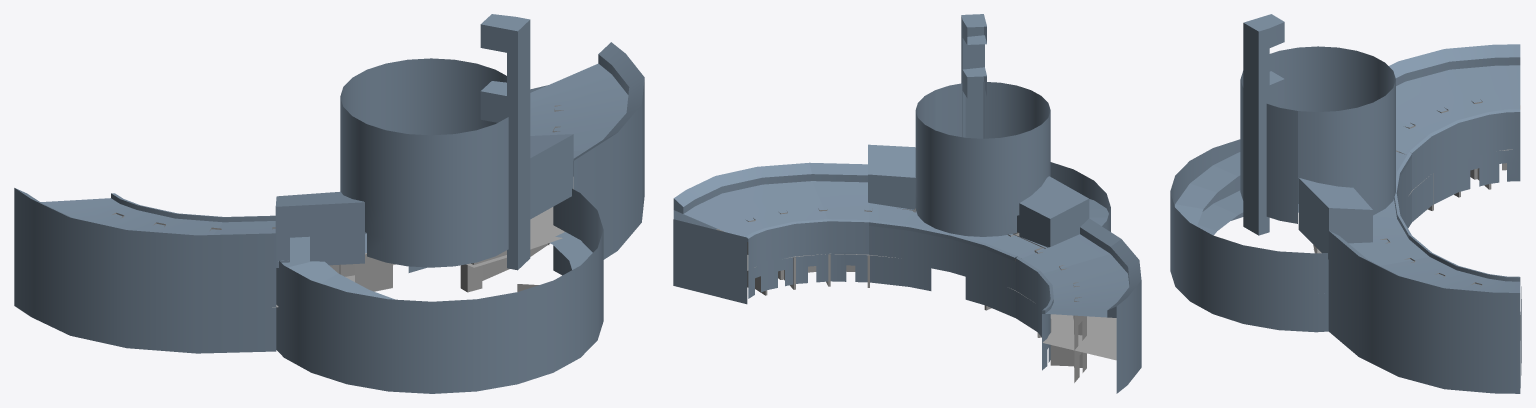
The model's file is CitadelOfDoubt.fbx.
The picture shows the model from 3 angles, left to right: view 1: azimuth 30°, elevation 25°; view 2: azimuth 150°, elevation 25°; view 3: azimuth 270°, elevation 25°; orthographic projection. The views are drawn at different scales.
Parts seen in each view (by area): view 1: polySurface104, pCylinder13, polySurface121, polySurface113, polySurface101, polySurface82, polySurface81, StairsA1, polySurface118, polySurface117, pCylinder30, PillarB; view 2: polySurface121, polySurface113, polySurface104, polySurface103, polySurface70, polySurface82, polySurface98, polySurface81, polySurface101, polySurface114, polySurface117, pCylinder13 (+2 smaller); view 3: polySurface113, polySurface121, pCylinder13, polySurface104, polySurface101, polySurface81, polySurface102, StairsA1, polySurface114, StairsA, polySurface103.
Part boxes in pixels (<box>): polySurface104: <box>14,188,276,353</box>; pCylinder13: <box>276,188,603,393</box>; polySurface121: <box>340,58,508,267</box>; polySurface113: <box>530,42,644,259</box>; polySurface101: <box>480,14,530,270</box>; polySurface82: <box>275,191,364,267</box>; polySurface81: <box>530,134,573,219</box>; StairsA1: <box>282,258,394,299</box>; polySurface118: <box>355,250,506,291</box>; polySurface117: <box>272,177,573,307</box>; pCylinder30: <box>550,232,592,269</box>; PillarB: <box>460,264,482,292</box>; polySurface121: <box>915,81,1050,236</box>; polySurface113: <box>673,162,869,269</box>; polySurface104: <box>1015,218,1141,393</box>; polySurface103: <box>869,226,1015,317</box>; polySurface70: <box>673,219,747,304</box>; polySurface82: <box>1017,176,1089,247</box>; polySurface98: <box>748,252,868,298</box>; polySurface81: <box>868,144,915,209</box>; polySurface101: <box>961,14,986,138</box>; polySurface114: <box>869,203,1047,261</box>; polySurface117: <box>747,253,1116,360</box>; pCylinder13: <box>1050,162,1110,231</box>; polySurface113: <box>1328,231,1520,393</box>; polySurface121: <box>1240,46,1395,223</box>; pCylinder13: <box>1170,139,1328,332</box>; polySurface104: <box>1389,44,1520,190</box>; polySurface101: <box>1243,14,1284,235</box>; polySurface81: <box>1298,178,1372,259</box>; polySurface102: <box>1412,150,1520,221</box>; StairsA1: <box>1174,152,1240,226</box>; polySurface114: <box>1373,151,1411,241</box>; StairsA: <box>1197,190,1243,235</box>; polySurface103: <box>1397,158,1411,228</box>.
Size of the model in its own units: 63.17 by 31.45 by 37.72.
